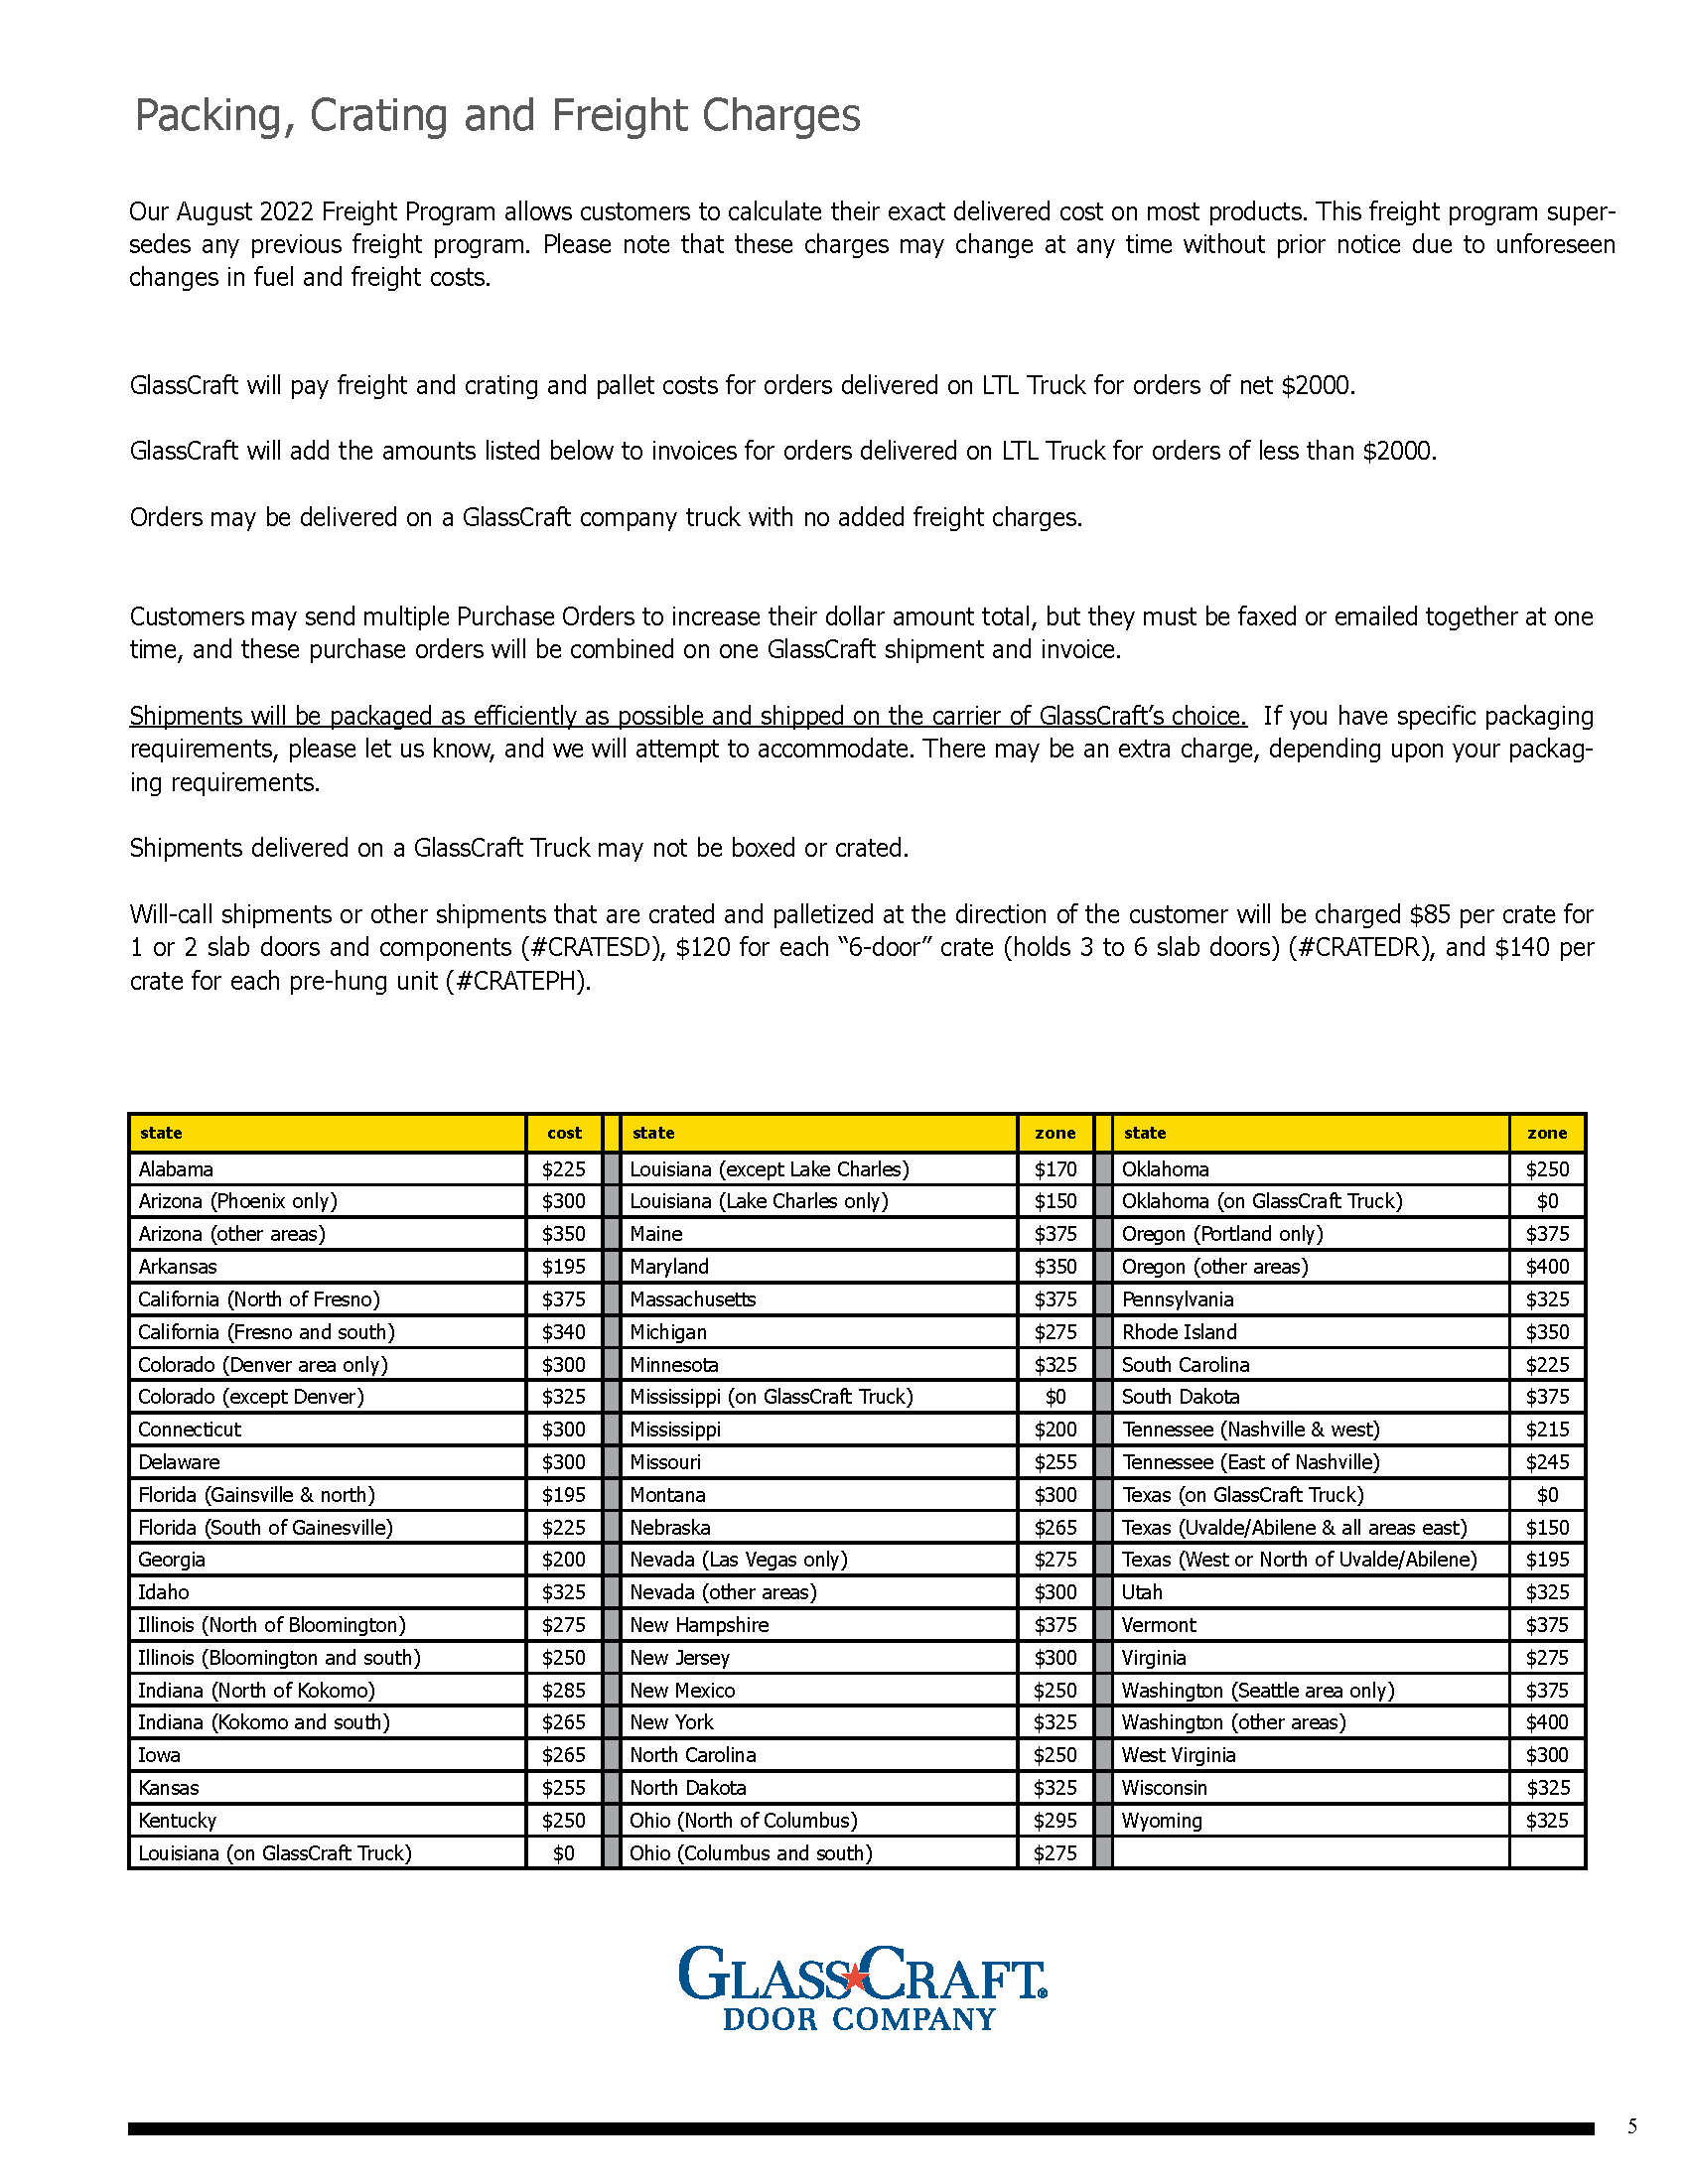tabledetected: (126, 1111, 601, 1872), (1114, 1113, 1583, 1867), (624, 1111, 1090, 1870)
